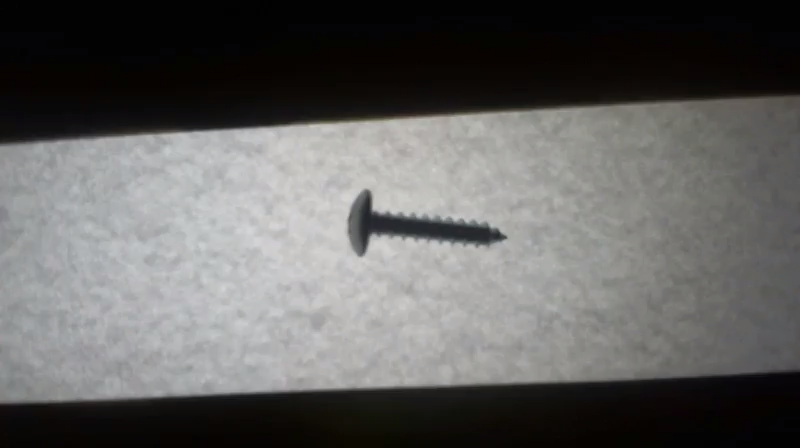S003: (342, 185, 510, 263)
